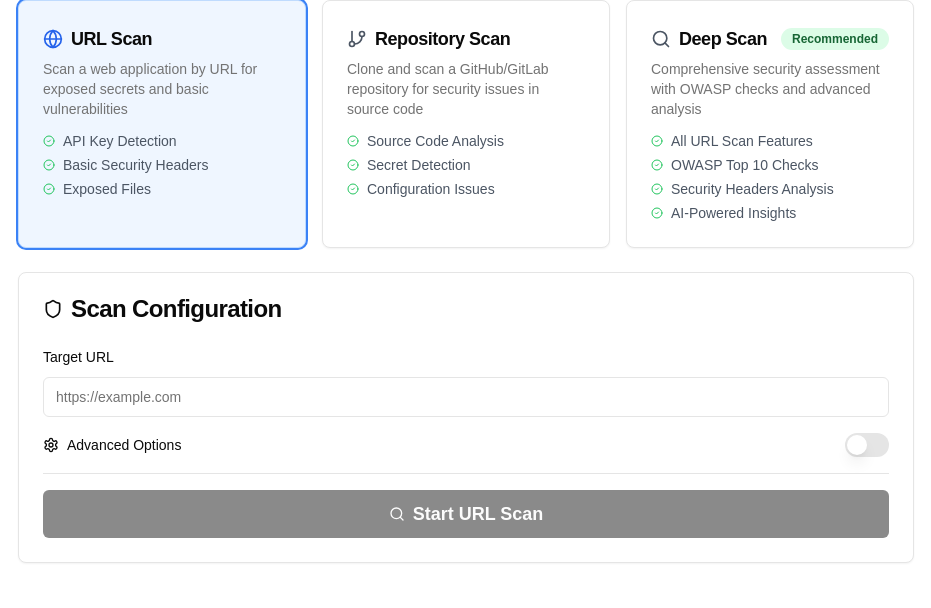
Test case: ScanTypeSelector › switches scan types when clicked
This screenshot has width=931, height=608.
// Click on Repository Scan
Click the text "Repository Scan": (443, 39) [375, 25, 510, 53]
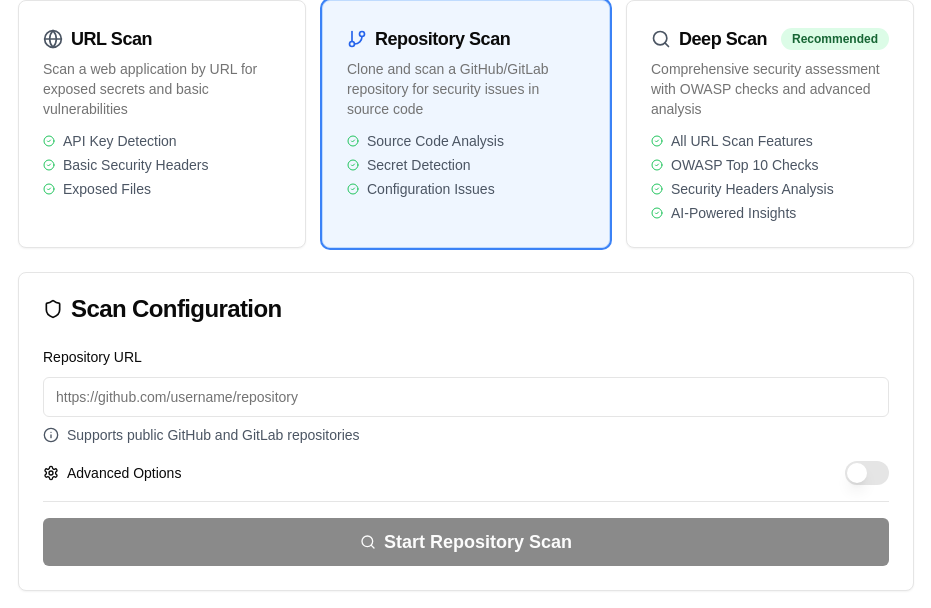
Expected: the field with placeholder "https://github.com/username/repository" is shown, [43, 377, 889, 417]
